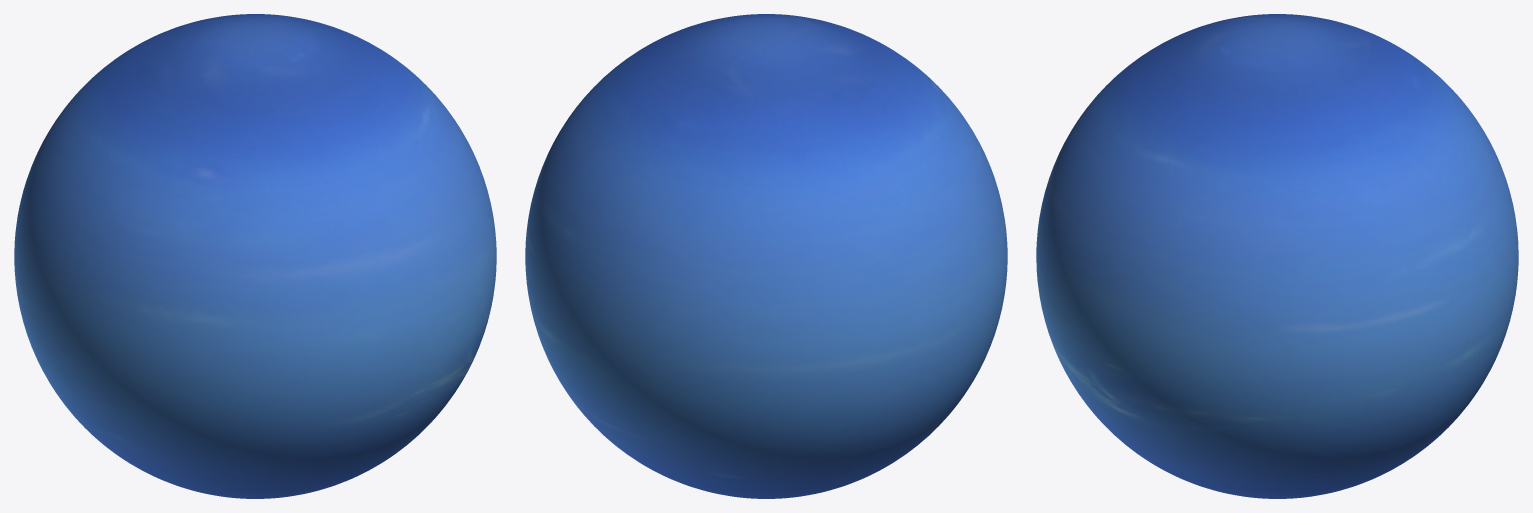
Rendered from neptune.fbx.
The picture shows the model from 3 angles, left to right: view 1: azimuth 30°, elevation 25°; view 2: azimuth 150°, elevation 25°; view 3: azimuth 270°, elevation 25°; orthographic projection.
Visible parts, largest first — view 1: neptune; view 2: neptune; view 3: neptune.
Boxes of the visible parts, x1,y1,x2,y2 form: neptune: (14, 14, 496, 498); neptune: (525, 14, 1007, 498); neptune: (1036, 14, 1518, 498).
Size of the model in its own units: 329 by 333 by 329.
Materials: 1 (1 with a texture image).
